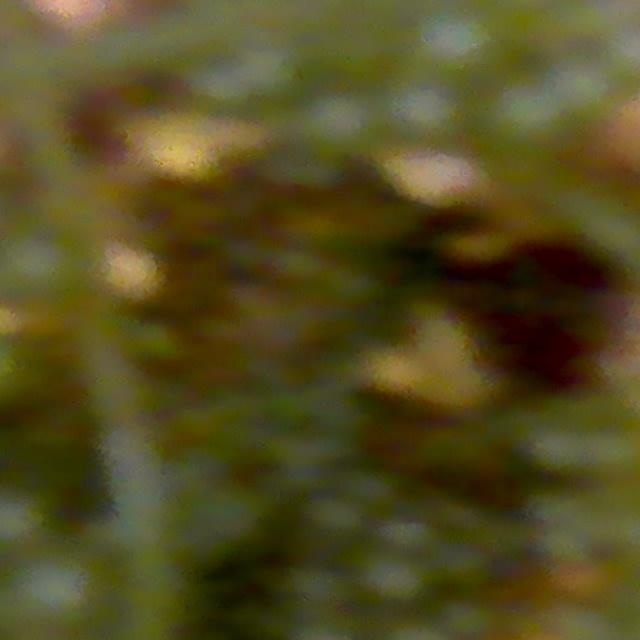SeaGrape: (0, 225, 101, 313), (409, 0, 510, 88), (480, 68, 576, 158), (14, 545, 106, 633), (383, 76, 468, 153), (300, 90, 379, 164), (0, 478, 56, 557)
